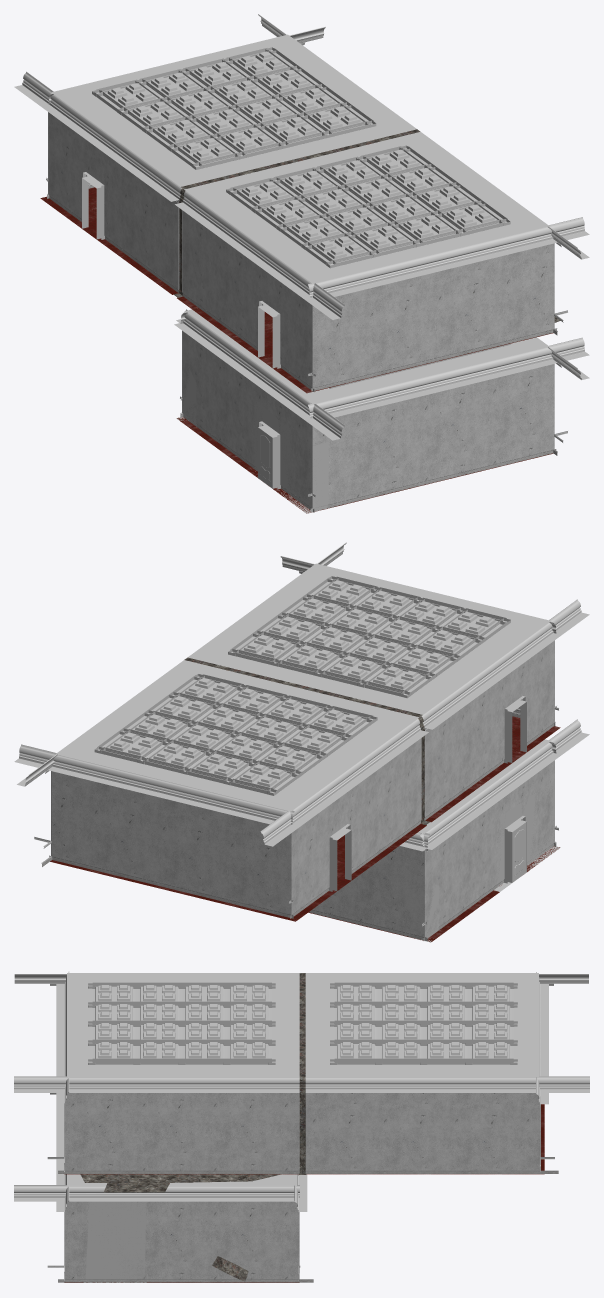
Rendered from backup.fbx.
The picture shows the model from 3 angles, top to bottom: view 1: azimuth 30°, elevation 25°; view 2: azimuth 150°, elevation 25°; view 3: azimuth 270°, elevation 25°; orthographic projection. The views are drawn at different scales.
Parts seen in each view (by area): view 1: LODGroup_1_MainMesh_1_SubMesh_10, LODGroup_1_MainMesh_1_SubMesh_3, LODGroup_1_MainMesh_1_SubMesh_9, LODGroup_1_MainMesh_1_SubMesh_8, LODGroup_1_MainMesh_1_SubMesh_4, LODGroup_1_MainMesh_1_SubMesh_1, LODGroup_1_MainMesh_1_SubMesh_11, LODGroup_1_MainMesh_1_SubMesh_7, LODGroup_1_MainMesh_1_SubMesh_6; view 2: LODGroup_1_MainMesh_1_SubMesh_10, LODGroup_1_MainMesh_1_SubMesh_3, LODGroup_1_MainMesh_1_SubMesh_9, LODGroup_1_MainMesh_1_SubMesh_8, LODGroup_1_MainMesh_1_SubMesh_4, LODGroup_1_MainMesh_1_SubMesh_11, LODGroup_1_MainMesh_1_SubMesh_1, LODGroup_1_MainMesh_1_SubMesh_7, LODGroup_1_MainMesh_1_SubMesh_6; view 3: LODGroup_1_MainMesh_1_SubMesh_10, LODGroup_1_MainMesh_1_SubMesh_3, LODGroup_1_MainMesh_1_SubMesh_9, LODGroup_1_MainMesh_1_SubMesh_8, LODGroup_1_MainMesh_1_SubMesh_4, LODGroup_1_MainMesh_1_SubMesh_6, LODGroup_1_MainMesh_1_SubMesh_1, LODGroup_1_MainMesh_1_SubMesh_11.
Boxes of the visible parts, x1,y1,x2,y2 form: LODGroup_1_MainMesh_1_SubMesh_10: (48, 112, 554, 507); LODGroup_1_MainMesh_1_SubMesh_3: (92, 47, 510, 388); LODGroup_1_MainMesh_1_SubMesh_9: (51, 34, 549, 404); LODGroup_1_MainMesh_1_SubMesh_8: (14, 14, 589, 440); LODGroup_1_MainMesh_1_SubMesh_4: (176, 367, 332, 513); LODGroup_1_MainMesh_1_SubMesh_1: (42, 42, 568, 512); LODGroup_1_MainMesh_1_SubMesh_11: (40, 187, 553, 513); LODGroup_1_MainMesh_1_SubMesh_7: (82, 172, 280, 475); LODGroup_1_MainMesh_1_SubMesh_6: (173, 129, 560, 322); LODGroup_1_MainMesh_1_SubMesh_10: (51, 640, 554, 936); LODGroup_1_MainMesh_1_SubMesh_3: (94, 576, 510, 795); LODGroup_1_MainMesh_1_SubMesh_9: (55, 563, 550, 833); LODGroup_1_MainMesh_1_SubMesh_8: (14, 542, 589, 851); LODGroup_1_MainMesh_1_SubMesh_4: (386, 780, 560, 942); LODGroup_1_MainMesh_1_SubMesh_11: (50, 716, 560, 942); LODGroup_1_MainMesh_1_SubMesh_1: (34, 571, 561, 940); LODGroup_1_MainMesh_1_SubMesh_7: (329, 696, 526, 891); LODGroup_1_MainMesh_1_SubMesh_6: (184, 657, 429, 825); LODGroup_1_MainMesh_1_SubMesh_10: (64, 1093, 540, 1279); LODGroup_1_MainMesh_1_SubMesh_3: (88, 982, 517, 1064); LODGroup_1_MainMesh_1_SubMesh_9: (67, 973, 538, 1185); LODGroup_1_MainMesh_1_SubMesh_8: (14, 971, 589, 1211); LODGroup_1_MainMesh_1_SubMesh_4: (84, 1201, 146, 1282); LODGroup_1_MainMesh_1_SubMesh_6: (80, 973, 306, 1281); LODGroup_1_MainMesh_1_SubMesh_1: (47, 983, 558, 1282); LODGroup_1_MainMesh_1_SubMesh_11: (64, 1104, 544, 1282).
Bounding box in the file's own units: 1650 × 1156 × 2835.
